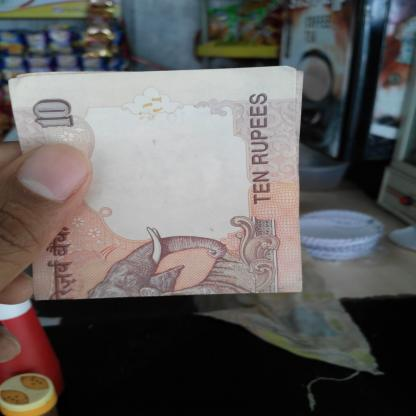Old10Back: (5, 65, 307, 302)
